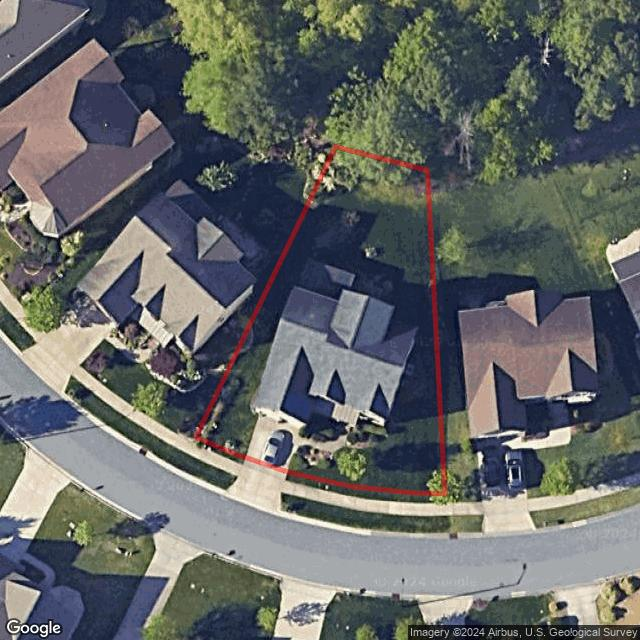Driveway: (244, 417, 304, 472)
Extra-Driveway: (225, 459, 287, 511)
Extra-Lawn: (281, 492, 450, 532), (284, 471, 445, 502), (179, 454, 238, 490), (193, 436, 246, 464)
Extra-Sidewalk: (280, 479, 447, 516), (187, 442, 242, 476)
House: (249, 285, 420, 430)
Lawn: (196, 147, 447, 494)
Other: (309, 147, 427, 205), (299, 257, 354, 300), (300, 412, 344, 440), (344, 421, 379, 449), (298, 446, 334, 466)
Sidewalk: (300, 422, 352, 452)
